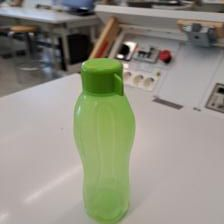bottle: (70, 56, 134, 222)
